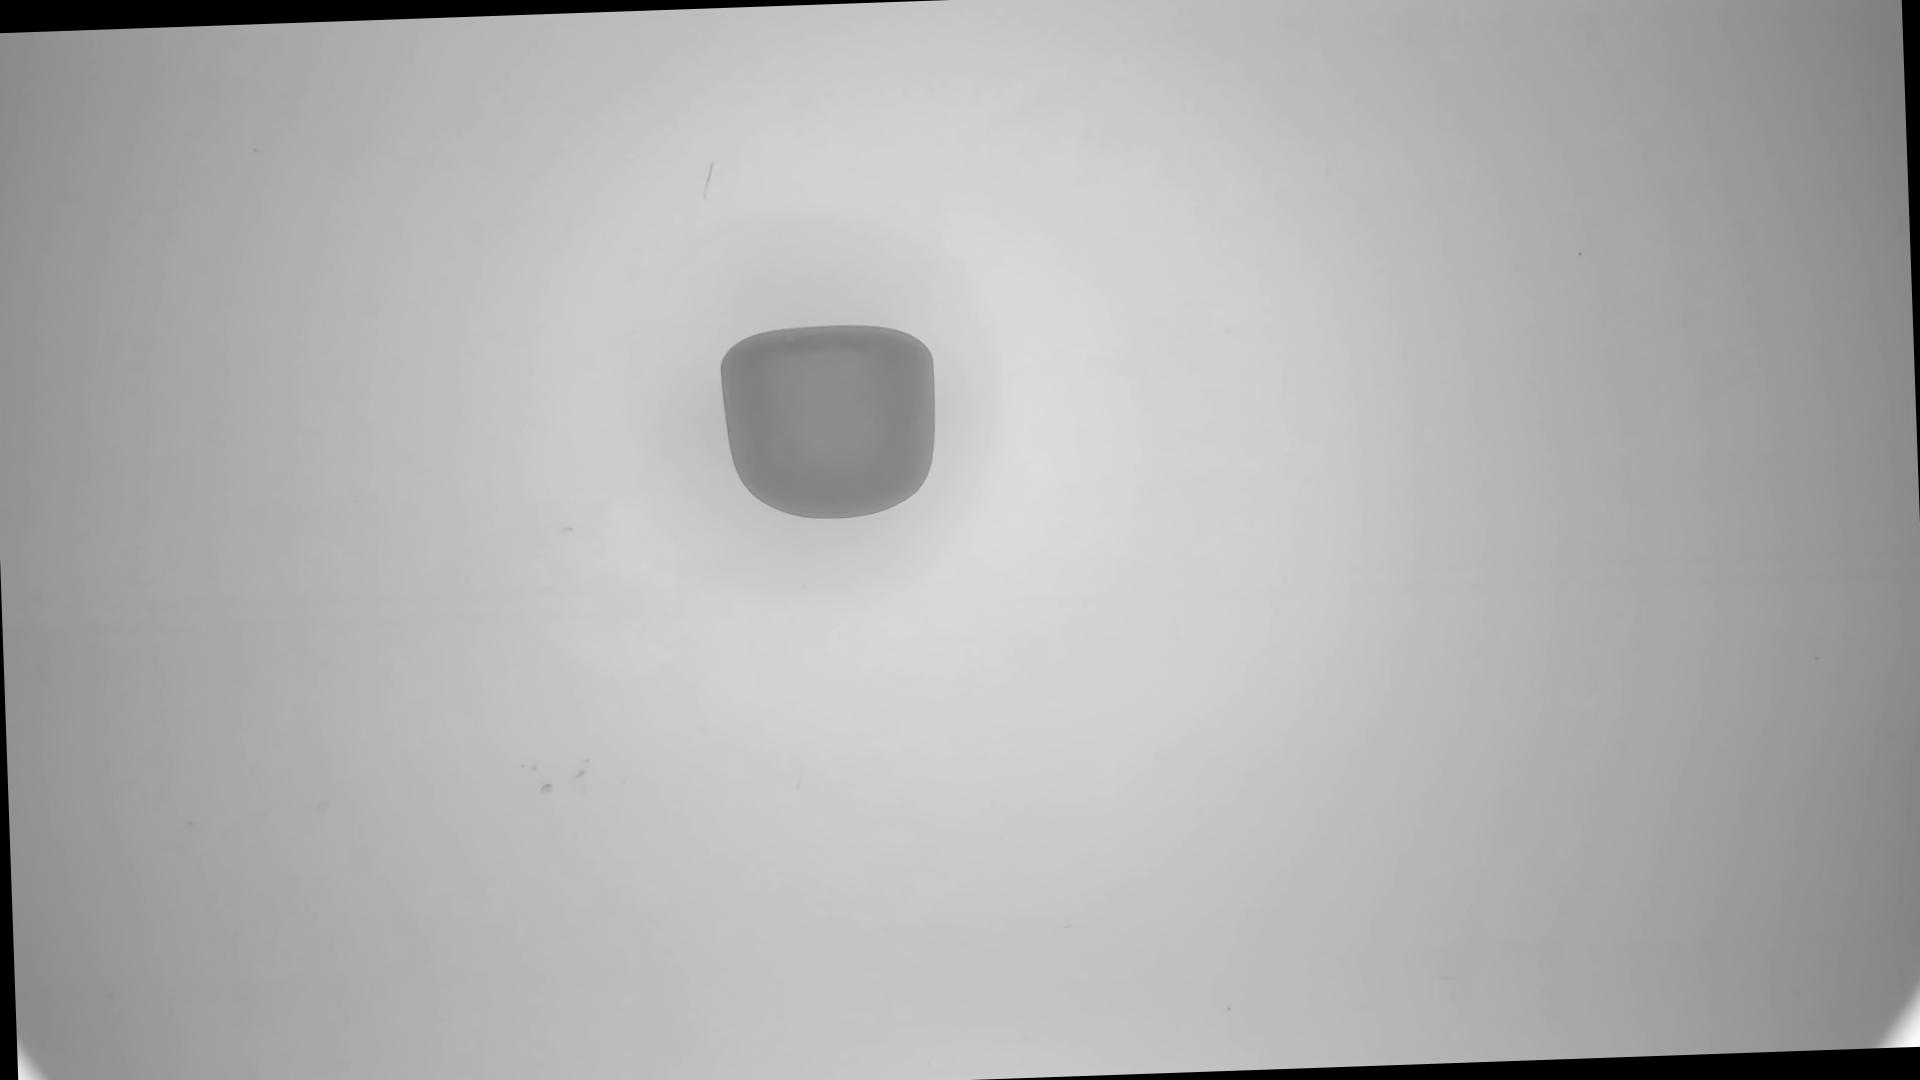normal: (719, 318, 945, 526)
